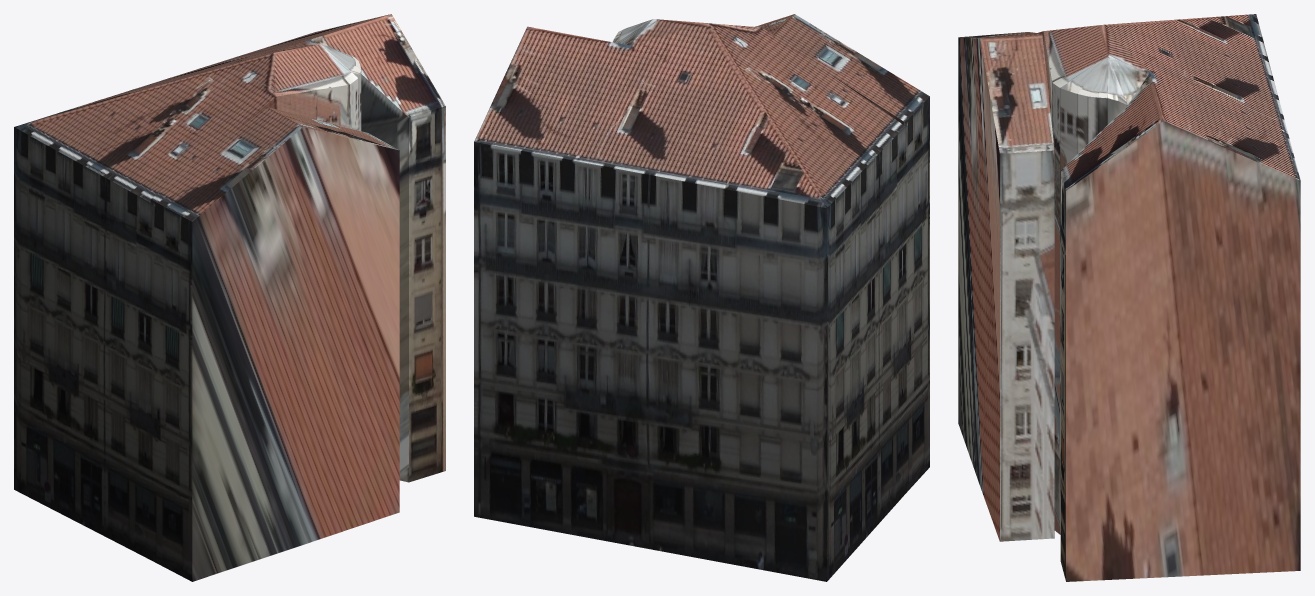
3 views of the same model, side by side, from view 1: azimuth 30°, elevation 25°; view 2: azimuth 150°, elevation 25°; view 3: azimuth 270°, elevation 25° (orthographic). The views are drawn at different scales.
Parts seen in each view (by area): view 1: Z_UP; view 2: Z_UP; view 3: Z_UP.
Boxes of the visible parts, <box> form: Z_UP: <box>14,14,445,581</box>; Z_UP: <box>474,14,929,581</box>; Z_UP: <box>958,14,1300,581</box>.
Size of the model in its own units: 22.98 by 28.41 by 18.55.
2 materials, 1 textured.
